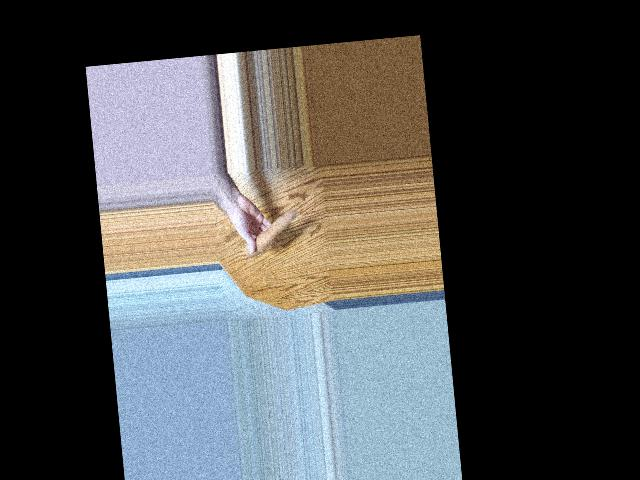sweet_potato: (241, 207, 299, 255)
